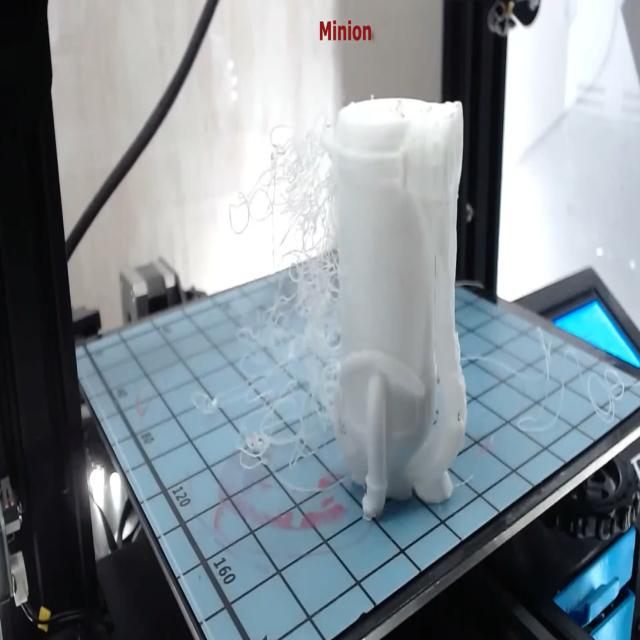spaghetti: (192, 100, 342, 524), (459, 267, 631, 449)
